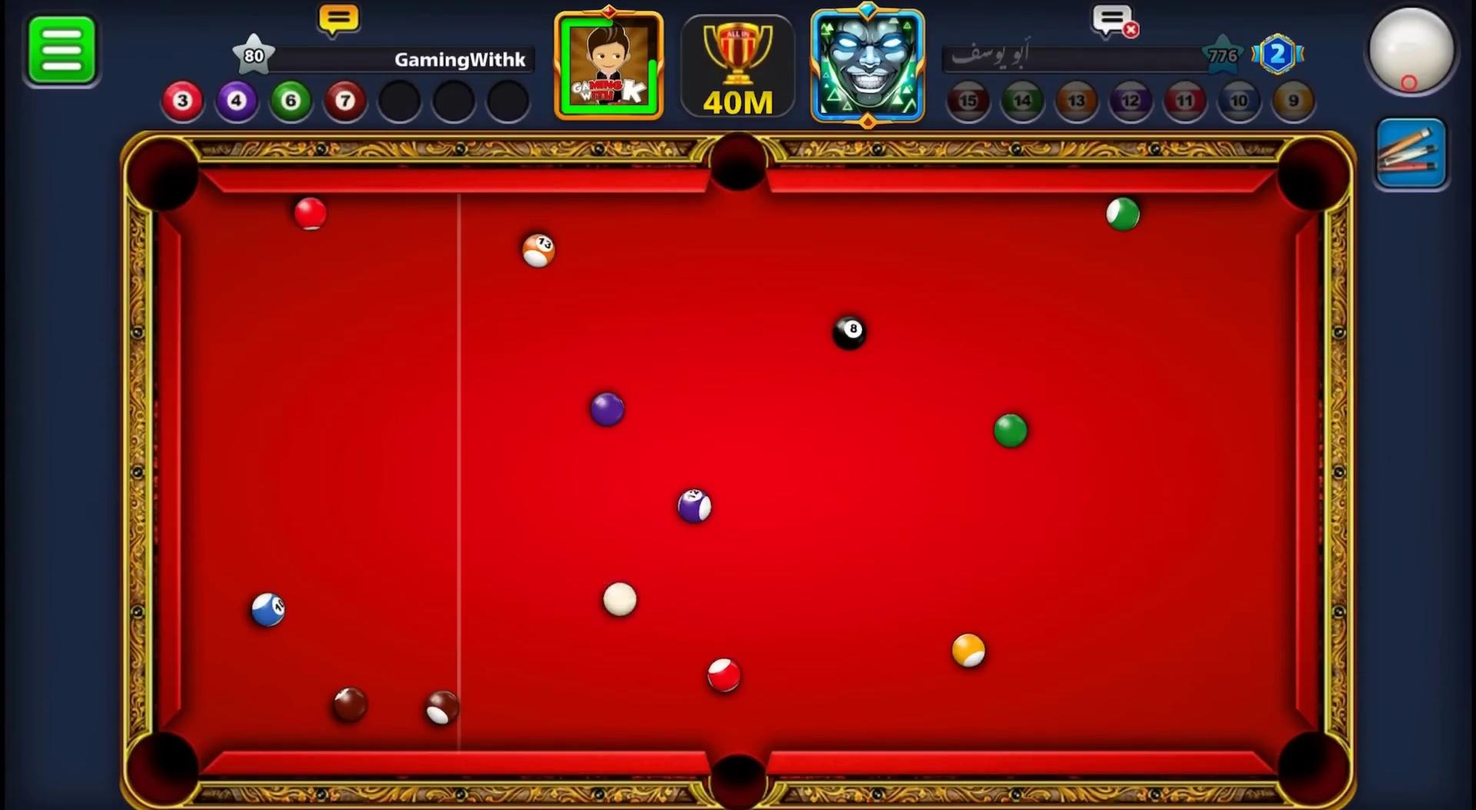Ball: (319, 681, 377, 723), (1098, 192, 1149, 233), (949, 629, 991, 676), (423, 686, 465, 729), (249, 591, 288, 634), (832, 310, 868, 351), (589, 390, 626, 428), (992, 409, 1029, 447), (675, 490, 712, 527), (521, 231, 557, 268), (708, 660, 743, 696), (293, 195, 328, 231)
Hole: (1272, 132, 1356, 220), (1275, 731, 1352, 810), (124, 135, 202, 212), (126, 730, 202, 805), (702, 748, 771, 810), (708, 131, 768, 191)
Play_Area: (181, 192, 1293, 753)
Spin: (1360, 4, 1462, 99)
White: (600, 584, 638, 623)
